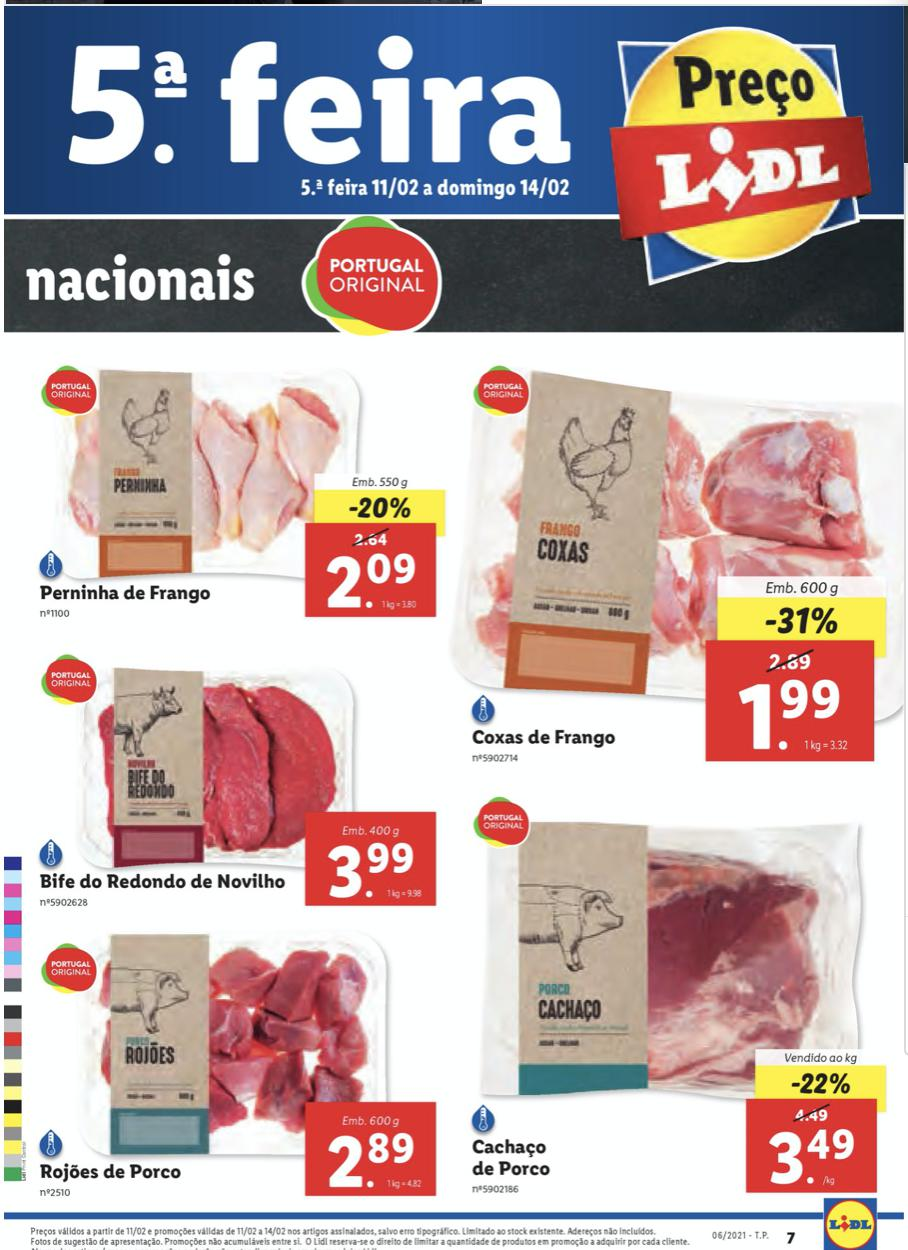name: (28, 866, 295, 893), (34, 580, 214, 607), (35, 1158, 186, 1186), (466, 1135, 557, 1181), (474, 723, 623, 750)
price: (298, 810, 443, 912), (306, 1100, 438, 1198), (725, 673, 860, 758), (309, 547, 440, 618), (765, 1123, 857, 1192)
product: (474, 353, 894, 770), (465, 790, 902, 1190), (12, 340, 442, 636), (12, 636, 448, 916), (26, 916, 448, 1203)
promotion: (755, 601, 840, 646), (786, 1066, 855, 1103), (345, 490, 415, 523)
